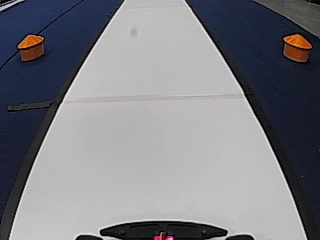granary: (281, 32, 313, 62), (15, 32, 45, 62)
